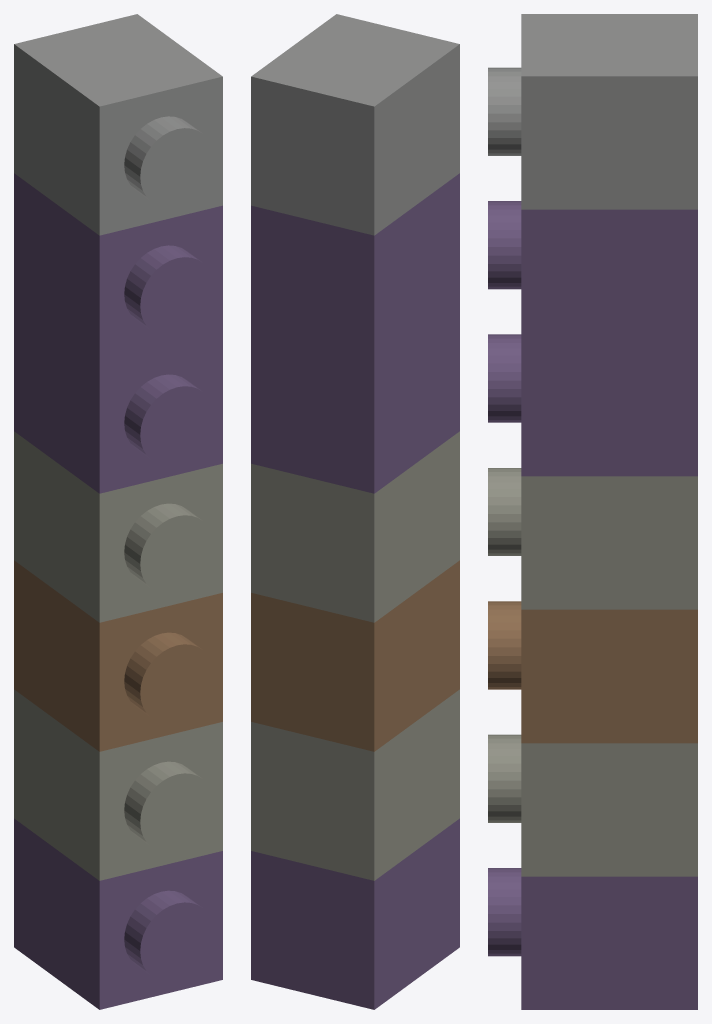
Rendered from current.glb.
The picture shows the model from 3 angles, left to right: view 1: azimuth 30°, elevation 25°; view 2: azimuth 150°, elevation 25°; view 3: azimuth 270°, elevation 25°; orthographic projection. The views are drawn at different scales.
Parts seen in each view (by area): view 1: world; view 2: world; view 3: world.
Boxes of the visible parts, box(x1,y1,x2,y2) form: world: box(14, 14, 222, 1009); world: box(251, 14, 459, 1009); world: box(488, 14, 697, 1009).
Bounding box in the file's own units: 8 × 56 × 11.4.
